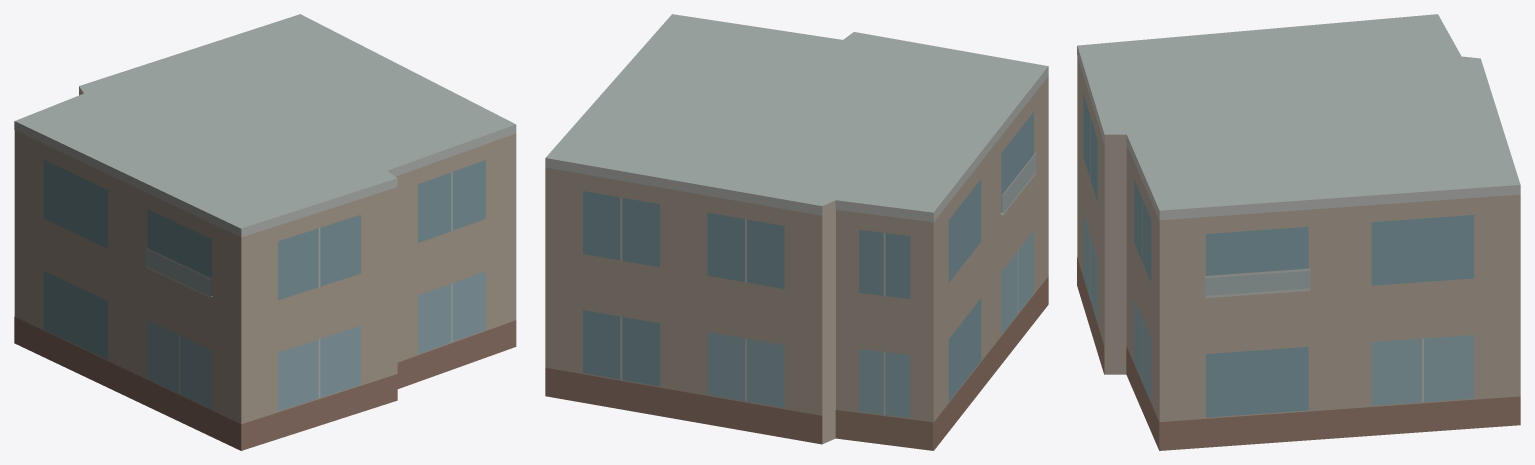
File: survey-upis-32997844.glb
3 renders of one model, left to right at view 1: azimuth 30°, elevation 25°; view 2: azimuth 150°, elevation 25°; view 3: azimuth 270°, elevation 25°, orthographic. The views are drawn at different scales.
Visible parts, largest first — view 1: survey-upis-32997844.tmp; view 2: survey-upis-32997844.tmp; view 3: survey-upis-32997844.tmp.
Part boxes in pixels (bbox=[...]): survey-upis-32997844.tmp: bbox=[14, 14, 516, 450]; survey-upis-32997844.tmp: bbox=[545, 14, 1048, 450]; survey-upis-32997844.tmp: bbox=[1077, 14, 1520, 450].
Size of the model in its own units: 10.72 by 6.1 by 10.22.
